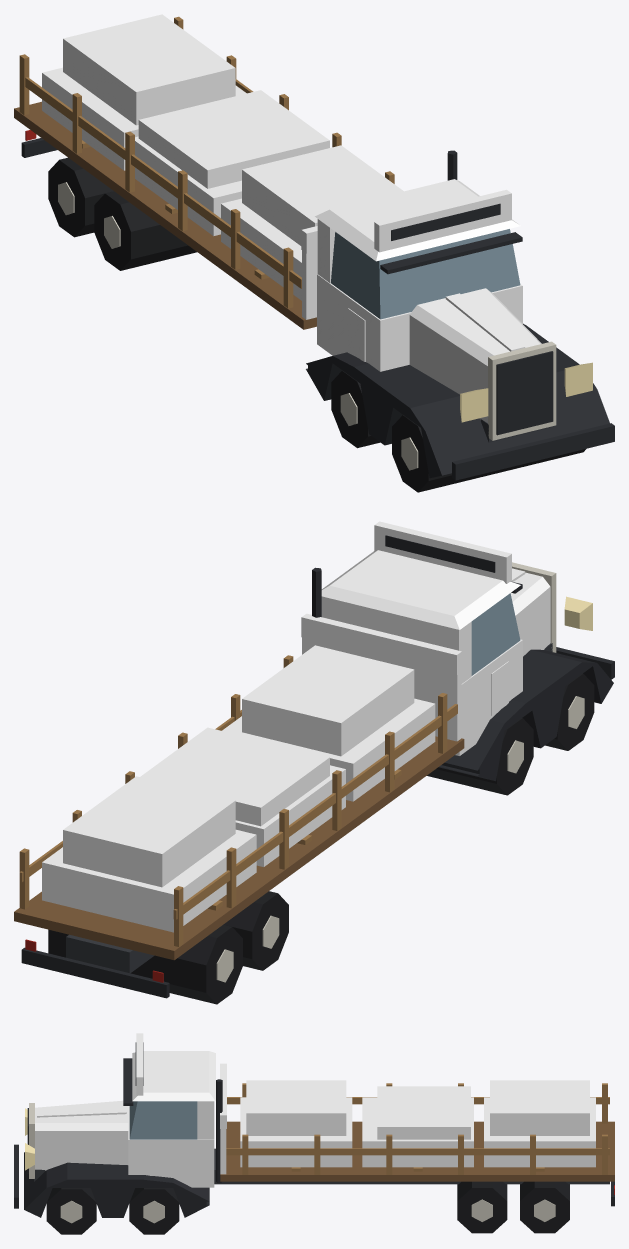
Rendered from heavy_flatbed.glb.
3 views of the same model, one above another, from view 1: azimuth 30°, elevation 25°; view 2: azimuth 150°, elevation 25°; view 3: azimuth 270°, elevation 25° (orthographic). The views are drawn at different scales.
Visible parts, largest first — view 1: model; view 2: model; view 3: model.
Part boxes in pixels (left/top/right/bottom): model: left=14, top=14, right=614, bottom=492; model: left=14, top=521, right=614, bottom=1004; model: left=14, top=1033, right=614, bottom=1234.
Bounding box in the file's own units: 2.7 × 3.34 × 12.
